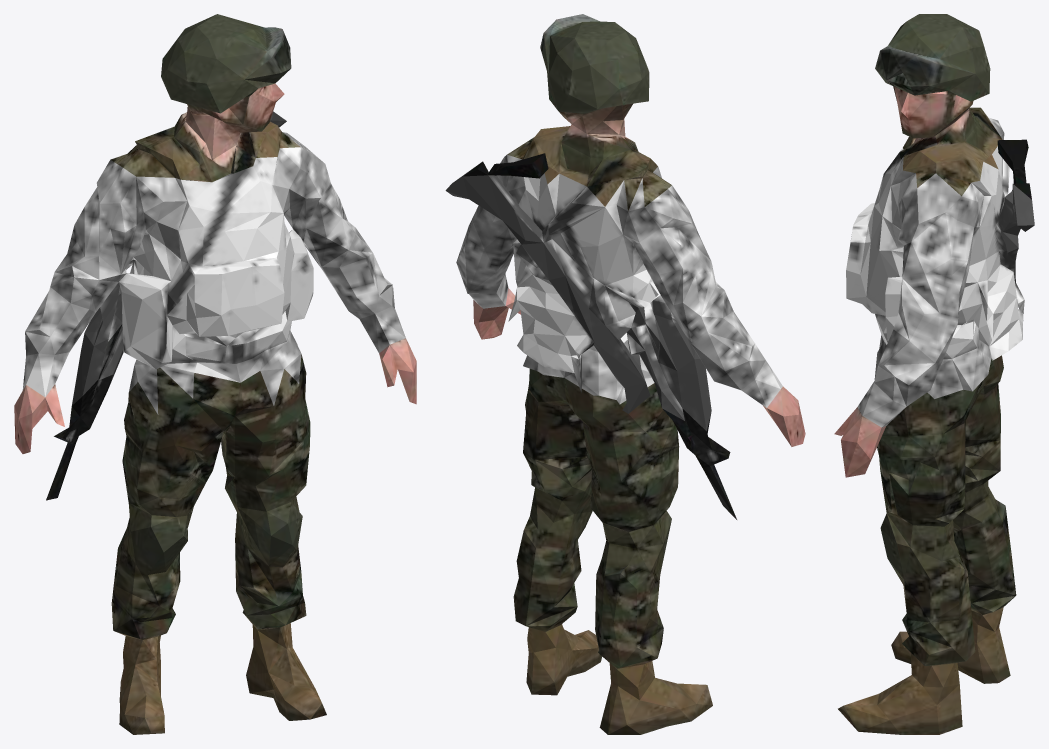
Rendered from realistic-cc0.a27e789144ee.marine.glb.
3 views of the same model, side by side, from view 1: azimuth 30°, elevation 25°; view 2: azimuth 150°, elevation 25°; view 3: azimuth 270°, elevation 25° (orthographic).
Parts seen in each view (by area): view 1: marine; view 2: marine; view 3: marine.
Boxes of the visible parts, x1,y1,x2,y2 form: marine: (14,14,416,734); marine: (445,14,805,734); marine: (834,14,1034,734).
Bounding box in the file's own units: 1 × 1.8 × 0.4817.
Materials: 2 (2 with a texture image).
